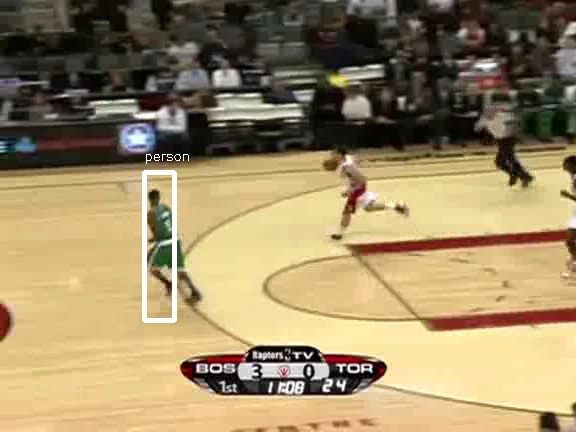person: (149, 200, 183, 281), (148, 200, 182, 281), (150, 200, 184, 281), (149, 199, 183, 280), (149, 201, 183, 282)
target_negative: (368, 129, 560, 239), (55, 220, 186, 340), (546, 215, 567, 395), (533, 314, 551, 366), (467, 400, 527, 405), (358, 262, 531, 263)
